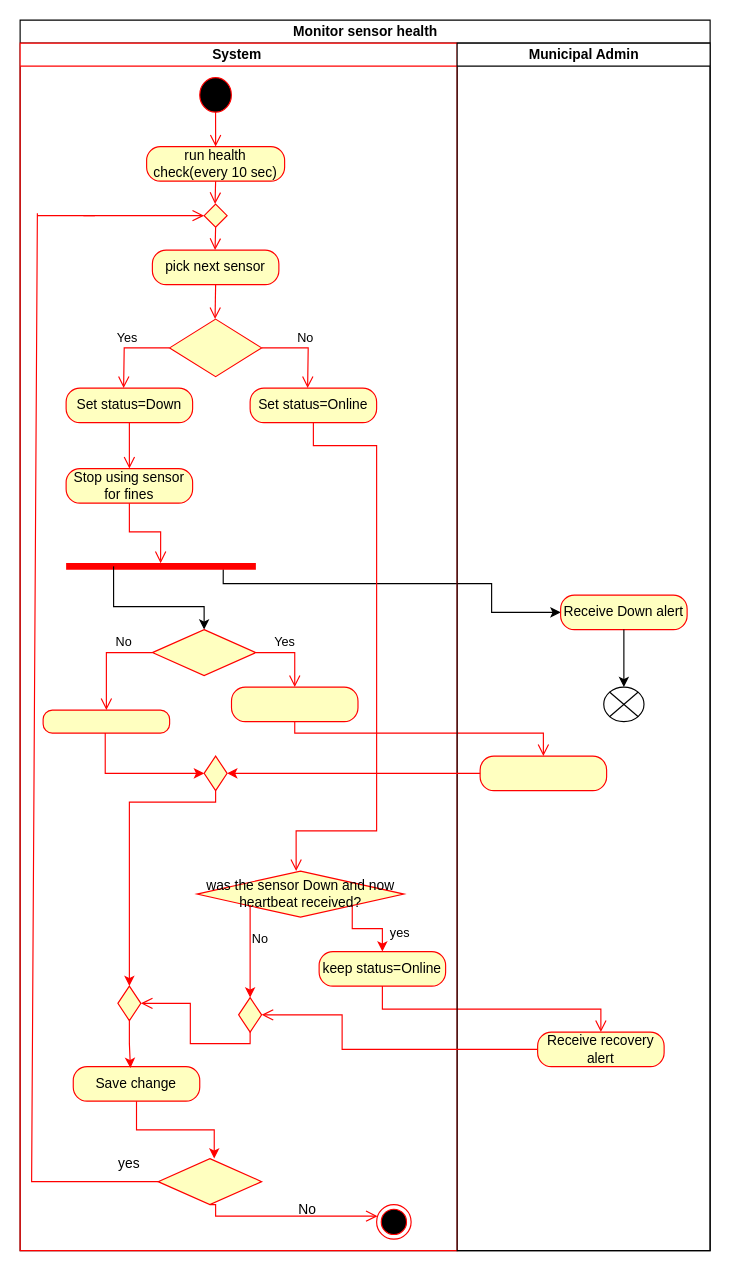
Some shapes in this 730 by 1271 pixel diagram are drawn without their labels. The shapes that lost their labels are listed below. From the top down, each one's centre as x and y in pixels, then its label:
pixel 215 347: is heartbeat missing?
pixel 203 652: 3 Down alerts in last hour?
pixel 106 721: Keep status=Down
pixel 294 704: Set status=Unstable
pixel 543 773: Receive inspection alert
pixel 209 1181: More sensors?
